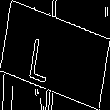L_N: (41, 27, 69, 83)
